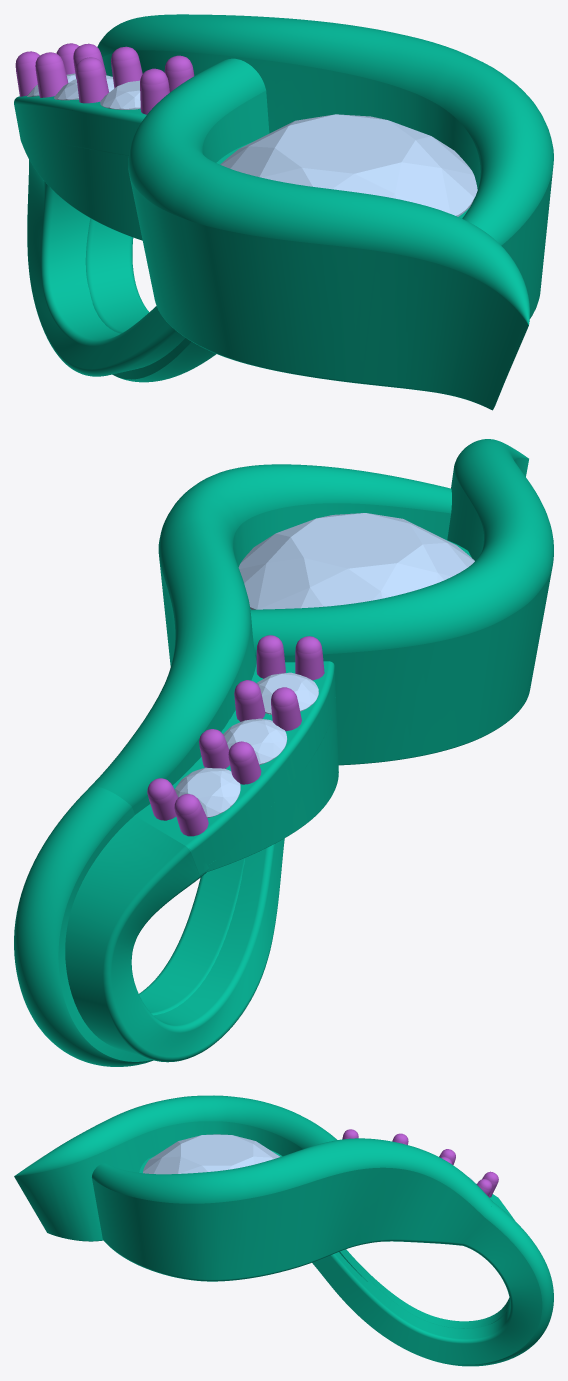
3 renders of one model, top to bottom at view 1: azimuth 30°, elevation 25°; view 2: azimuth 150°, elevation 25°; view 3: azimuth 270°, elevation 25°, orthographic. The views are drawn at different scales.
Visible parts, largest first — view 1: AL1ZE-C1-PD038.3dm, Diamond_Round (×2), Prong On Surface (×6); view 2: AL1ZE-C1-PD038.3dm, Diamond_Round (×4), Prong On Surface (×8); view 3: AL1ZE-C1-PD038.3dm, Diamond_Round.
Part boxes in pixels (box(x1,y1,x2,y2)): AL1ZE-C1-PD038.3dm: box(14, 14, 553, 410); Diamond_Round (×2): box(100, 80, 477, 216); Prong On Surface (×6): box(15, 46, 194, 114); AL1ZE-C1-PD038.3dm: box(14, 439, 553, 1066); Diamond_Round (×4): box(175, 513, 474, 817); Prong On Surface (×8): box(147, 635, 324, 836); AL1ZE-C1-PD038.3dm: box(14, 1095, 553, 1366); Diamond_Round: box(143, 1134, 279, 1174).
Size of the model in its own units: 1.46 by 1.61 by 3.36.
